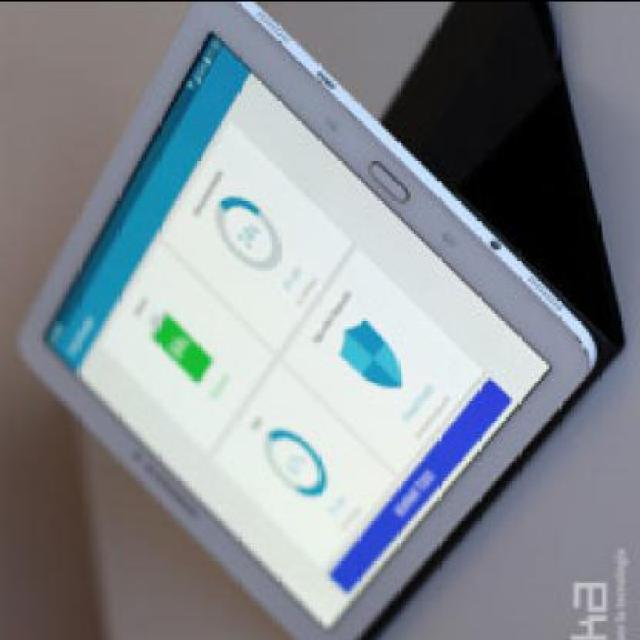tablet: (16, 0, 610, 624)
